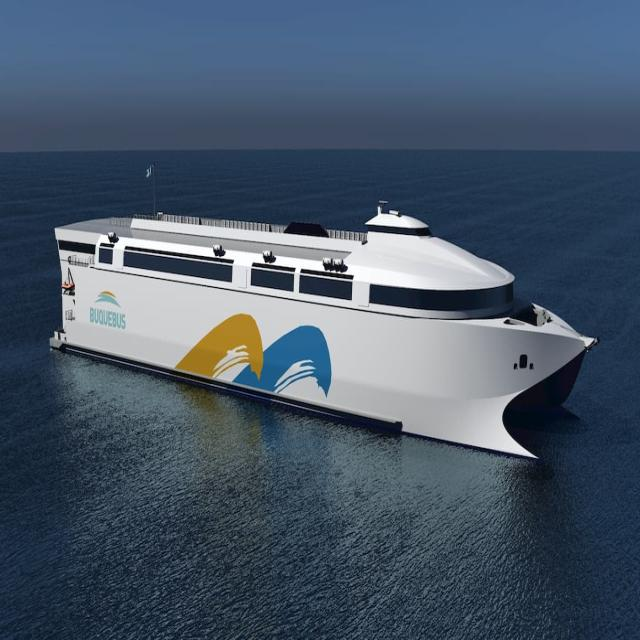boat: (40, 144, 609, 495)
